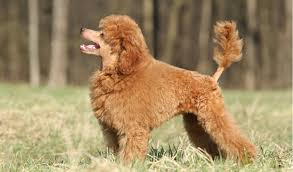Poodle: (63, 10, 272, 162)
